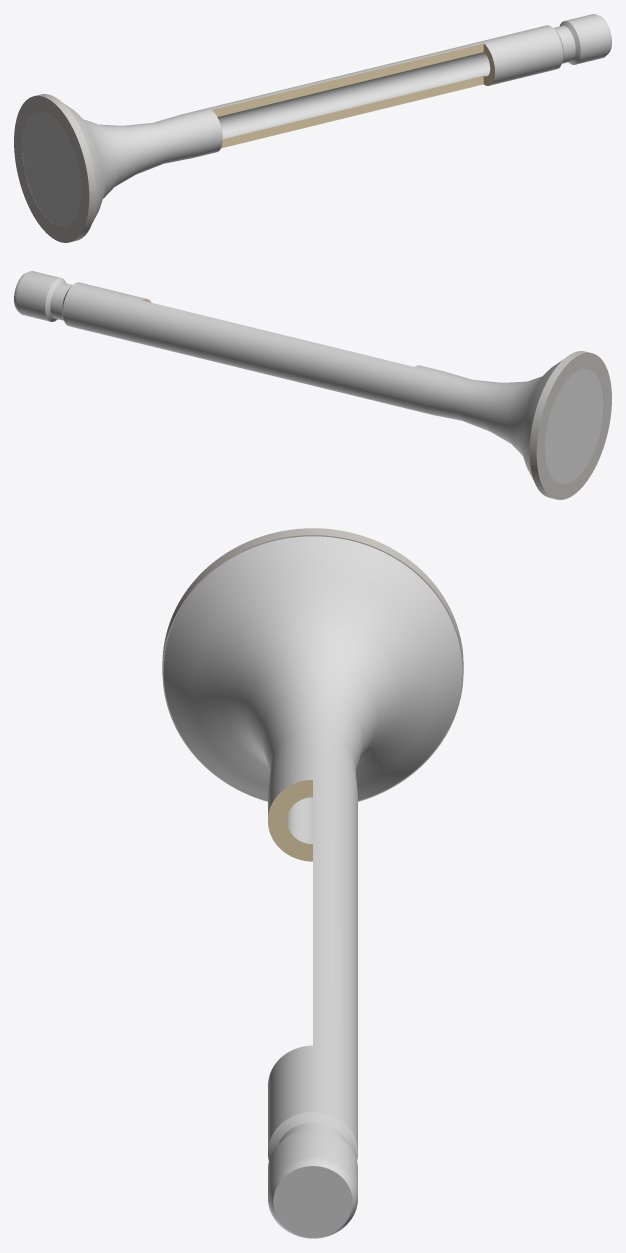
Rendered from valve_ex.glb.
3 renders of one model, top to bottom at view 1: azimuth 30°, elevation 25°; view 2: azimuth 150°, elevation 25°; view 3: azimuth 270°, elevation 25°, orthographic. The views are drawn at different scales.
Visible parts, largest first — view 1: valve_ex__valve, valve_ex__seat_face; view 2: valve_ex__valve, valve_ex__seat_face; view 3: valve_ex__valve, valve_ex__seat_face.
Boxes of the visible parts, left/top/right/bottom form: valve_ex__valve: left=22, top=14, right=611, bottom=226; valve_ex__seat_face: left=14, top=94, right=96, bottom=242; valve_ex__valve: left=14, top=271, right=603, bottom=483; valve_ex__seat_face: left=529, top=351, right=611, bottom=499; valve_ex__valve: left=163, top=536, right=462, bottom=1238; valve_ex__seat_face: left=162, top=528, right=463, bottom=801.
Bounding box in the file's own units: 9.3 × 2.2 × 2.2.
